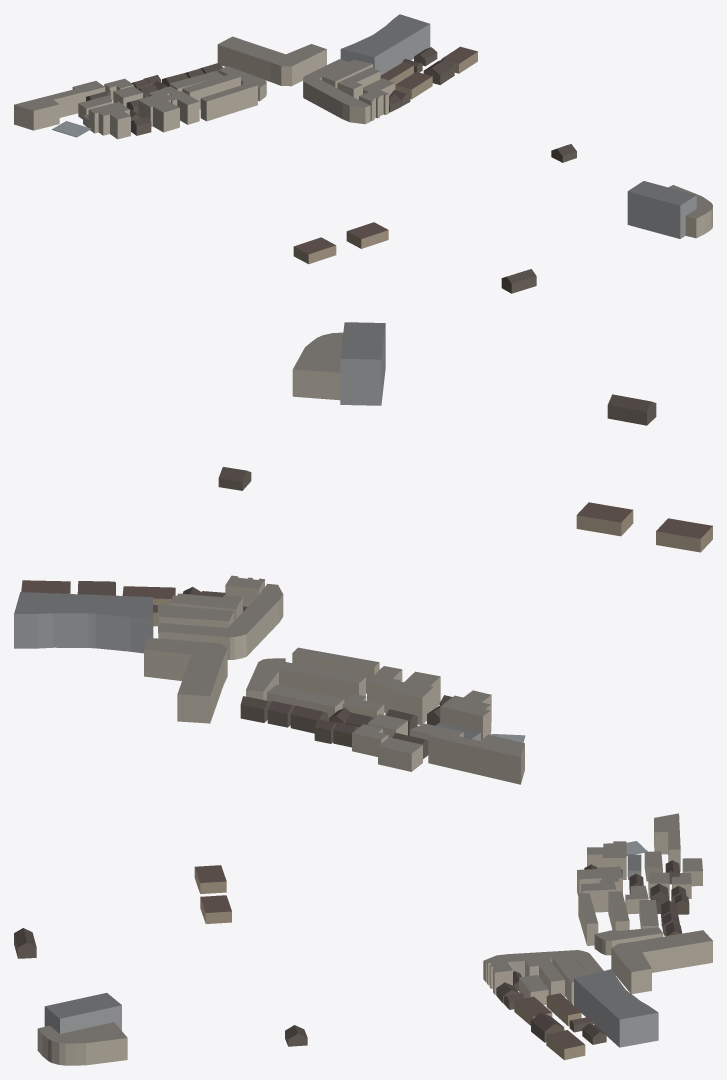
File: tile_2_7.glb
3 views of the same model, one above another, from view 1: azimuth 30°, elevation 25°; view 2: azimuth 150°, elevation 25°; view 3: azimuth 270°, elevation 25° (orthographic). The views are drawn at different scales.
Parts seen in each view (by area): view 1: HP-w369317445, HP-w372180514, HP-w369317588, HP-w369317453, HP-w369317483, HP-w438969158, HP-w369317446, HP-w311065017, HP-w369317596, HP-w372180388, HP-w311065016, HP-w194472167 (+10 smaller); view 2: HP-w369317445, HP-w372180514, HP-w369317588, HP-w369317446, HP-w369317453, HP-w372180388, HP-w369317483, HP-w438969158, HP-w311065016, HP-w369317596, HP-w311065017, HP-w194472166 (+10 smaller); view 3: HP-w369317445, HP-w372180388, HP-w369317483, HP-w372180514, HP-w438969158, HP-w369317453, HP-w369317588, HP-w369317446, HP-w369317609, HP-w369317596, HP-w369317597, HP-w282881402 (+16 smaller).
Part boxes in pixels (x1=…): HP-w369317445: x1=340, y1=14, x2=430, y2=75; HP-w372180514: x1=627, y1=181, x2=696, y2=238; HP-w369317588: x1=14, y1=88, x2=84, y2=130; HP-w369317453: x1=138, y1=91, x2=199, y2=132; HP-w369317483: x1=217, y1=36, x2=285, y2=81; HP-w438969158: x1=271, y1=44, x2=326, y2=86; HP-w369317446: x1=303, y1=59, x2=354, y2=118; HP-w311065017: x1=200, y1=82, x2=257, y2=121; HP-w369317596: x1=88, y1=102, x2=130, y2=139; HP-w372180388: x1=668, y1=185, x2=712, y2=238; HP-w311065016: x1=182, y1=72, x2=240, y2=109; HP-w194472167: x1=293, y1=237, x2=336, y2=264; HP-w369317445: x1=14, y1=592, x2=153, y2=653; HP-w372180514: x1=340, y1=322, x2=385, y2=405; HP-w369317588: x1=428, y1=730, x2=524, y2=784; HP-w369317446: x1=158, y1=597, x2=279, y2=659; HP-w369317453: x1=367, y1=666, x2=440, y2=724; HP-w372180388: x1=292, y1=332, x2=343, y2=400; HP-w369317483: x1=177, y1=655, x2=223, y2=723; HP-w438969158: x1=144, y1=637, x2=227, y2=683; HP-w311065016: x1=279, y1=662, x2=365, y2=702; HP-w369317596: x1=440, y1=690, x2=491, y2=739; HP-w311065017: x1=292, y1=647, x2=379, y2=693; HP-w194472166: x1=576, y1=502, x2=633, y2=536; HP-w369317445: x1=574, y1=969, x2=658, y2=1047; HP-w372180388: x1=37, y1=1022, x2=127, y2=1065; HP-w369317483: x1=633, y1=930, x2=712, y2=972; HP-w372180514: x1=44, y1=993, x2=121, y2=1033; HP-w438969158: x1=611, y1=942, x2=651, y2=993; HP-w369317453: x1=577, y1=866, x2=622, y2=912; HP-w369317588: x1=654, y1=813, x2=680, y2=871; HP-w369317446: x1=508, y1=950, x2=603, y2=976; HP-w369317609: x1=594, y1=927, x2=662, y2=955; HP-w369317596: x1=587, y1=841, x2=626, y2=879; HP-w369317597: x1=525, y1=957, x2=564, y2=996; HP-w282881402: x1=546, y1=1030, x2=585, y2=1060.
Bounding box in the file's own units: 401 × 30.4 × 515.
